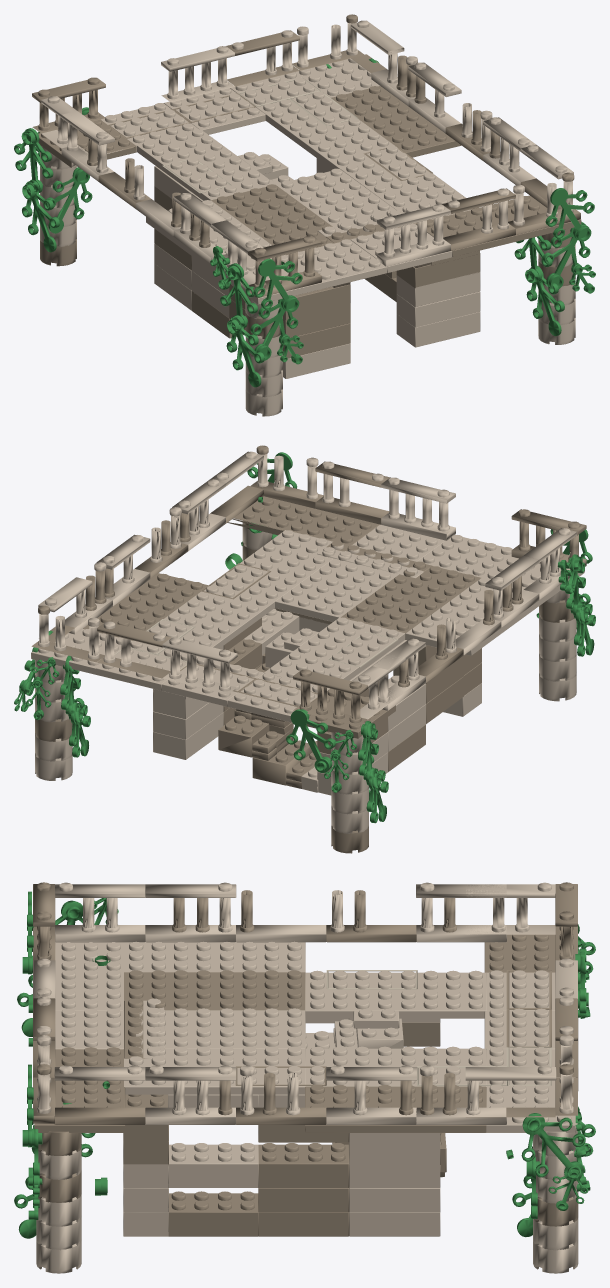
The model's file is ruins.glb.
The picture shows the model from 3 angles, top to bottom: view 1: azimuth 30°, elevation 25°; view 2: azimuth 150°, elevation 25°; view 3: azimuth 270°, elevation 25°; orthographic projection. The views are drawn at different scales.
Parts seen in each view (by area): view 1: ruins; view 2: ruins; view 3: ruins.
Boxes of the visible parts, bbox=[...] form: ruins: bbox=[14, 14, 595, 416]; ruins: bbox=[14, 445, 595, 853]; ruins: bbox=[14, 882, 595, 1273].
Bounding box in the file's own units: 8 × 3.64 × 9.45.
